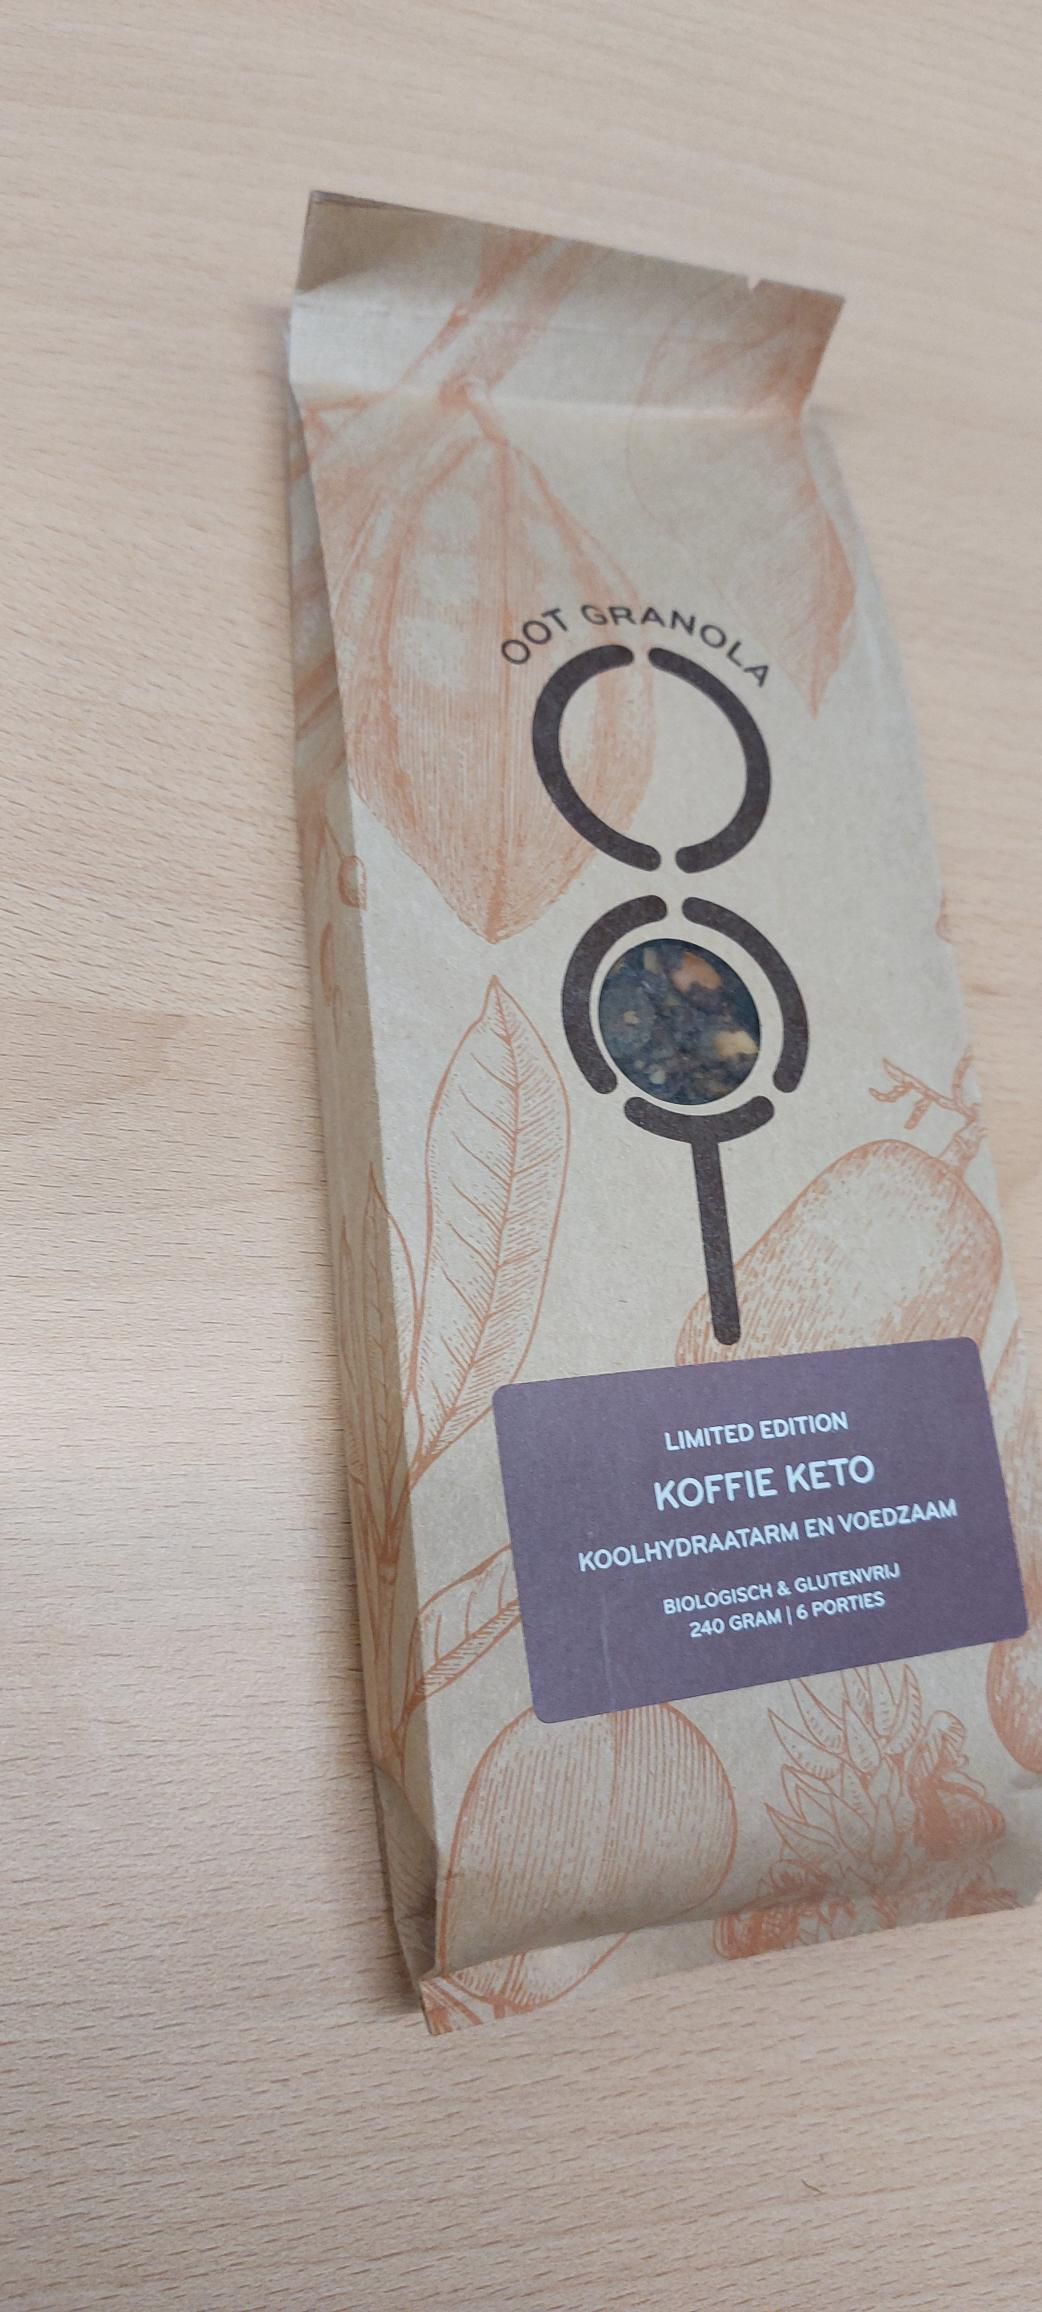KoffieKeto: (458, 1371, 1015, 1687)
